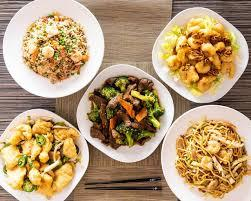Braised Crucian Carp: (2, 0, 104, 99), (75, 64, 173, 162), (150, 5, 248, 103), (159, 103, 251, 200), (0, 107, 89, 201)
